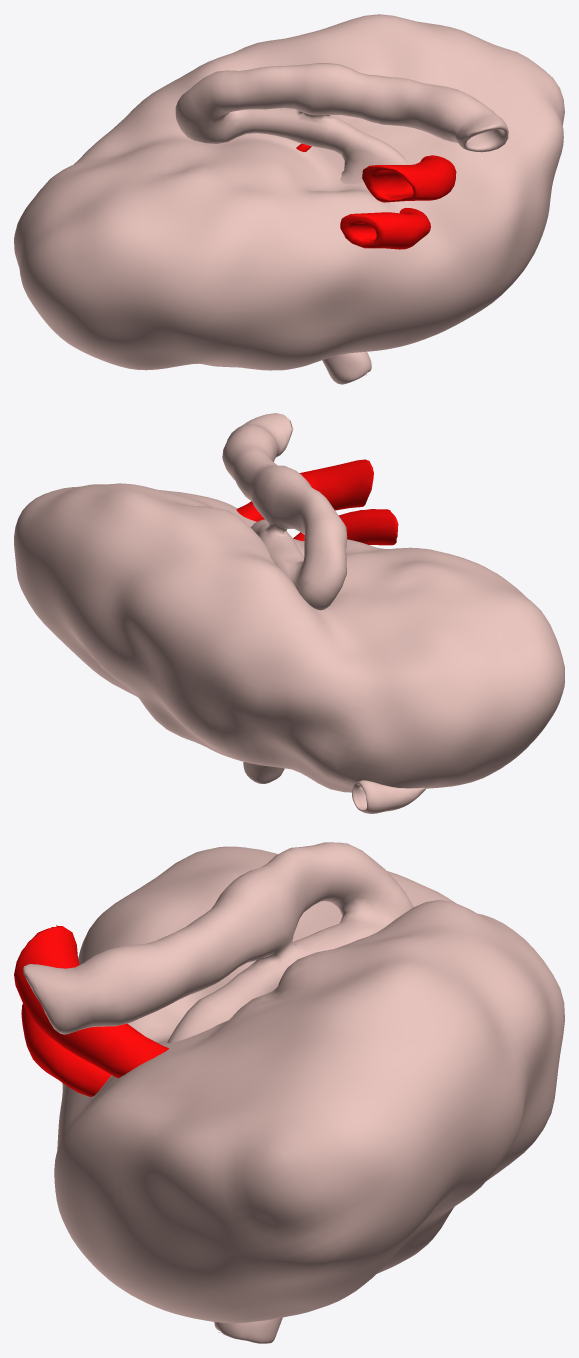
The model's file is hra-lymph-node-female-v1.glb.
3 renders of one model, top to bottom at view 1: azimuth 30°, elevation 25°; view 2: azimuth 150°, elevation 25°; view 3: azimuth 270°, elevation 25°, orthographic. The views are drawn at different scales.
Visible parts, largest first — view 1: Yao_capsule_of_lymph_node, Yao_efferent_lymph_node, Yao_blood_vasculature, Yao_afferent_lymphatic_vessel; view 2: Yao_capsule_of_lymph_node, Yao_efferent_lymph_node, Yao_blood_vasculature, Yao_afferent_lymphatic_vessel; view 3: Yao_capsule_of_lymph_node, Yao_efferent_lymph_node, Yao_blood_vasculature, Yao_afferent_lymphatic_vessel.
Part boxes in pixels (x1,y1,x2,y2): Yao_capsule_of_lymph_node: (14,14,564,370); Yao_efferent_lymph_node: (175,63,508,184); Yao_blood_vasculature: (296,143,456,249); Yao_afferent_lymphatic_vessel: (322,352,371,384); Yao_capsule_of_lymph_node: (14,483,564,792); Yao_efferent_lymph_node: (222,413,347,610); Yao_blood_vasculature: (236,459,398,545); Yao_afferent_lymphatic_vessel: (243,762,425,813); Yao_capsule_of_lymph_node: (54,846,564,1323); Yao_efferent_lymph_node: (23,842,413,1043); Yao_blood_vasculature: (14,925,168,1096); Yao_afferent_lymphatic_vessel: (214,1317,282,1343).
Size of the model in its own units: 0.0196 by 0.0113 by 0.0125.
